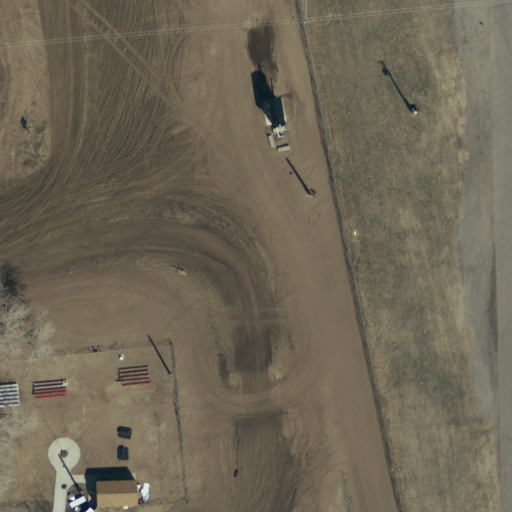DT: (398, 96, 430, 124), (297, 182, 324, 208), (161, 364, 190, 388), (67, 481, 94, 501)
